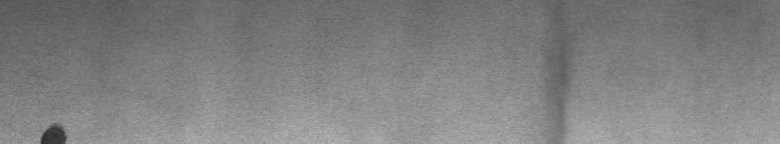fi: (36, 116, 72, 136)
